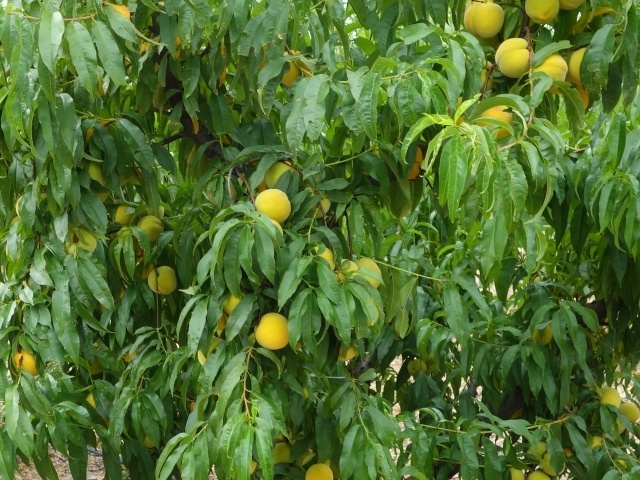peach: (470, 98, 518, 141), (496, 33, 537, 81), (457, 1, 506, 41), (253, 308, 294, 353), (2, 337, 41, 383), (252, 185, 293, 227), (530, 51, 571, 92), (258, 153, 298, 194), (143, 261, 181, 298), (351, 253, 386, 292), (520, 1, 563, 30), (134, 211, 168, 242), (535, 449, 571, 477), (594, 383, 625, 413), (611, 395, 640, 427), (110, 203, 137, 231), (403, 355, 429, 381), (302, 461, 337, 479), (524, 465, 552, 479)
